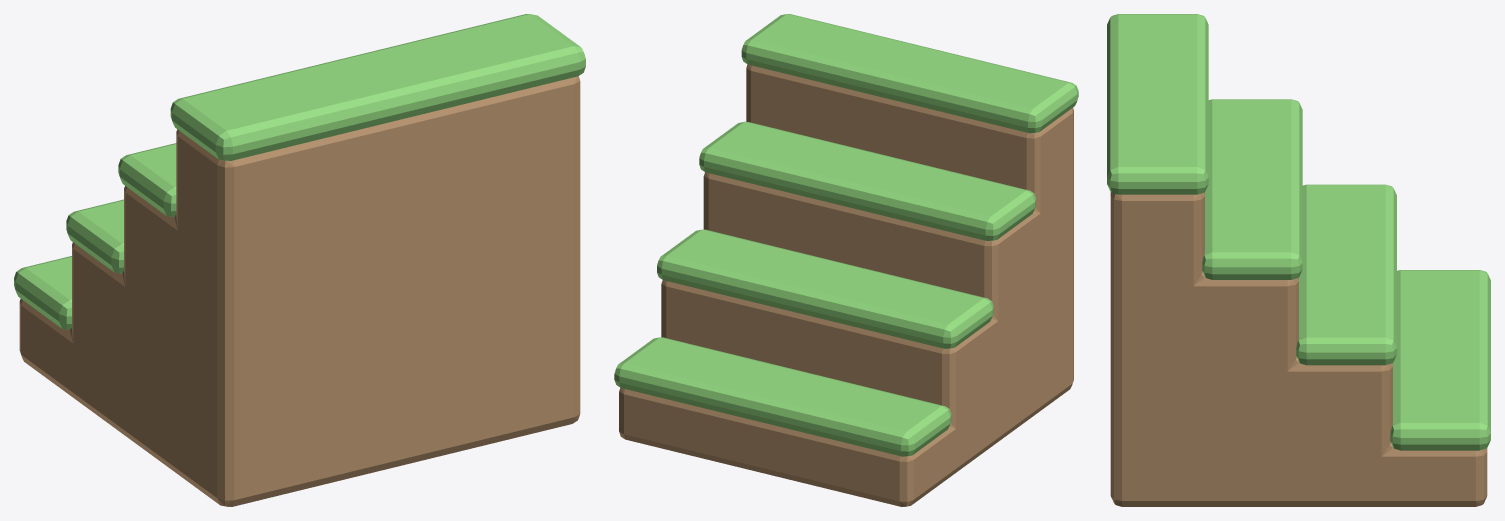
File: stairs.glb
3 renders of one model, left to right at view 1: azimuth 30°, elevation 25°; view 2: azimuth 150°, elevation 25°; view 3: azimuth 270°, elevation 25°, orthographic. The views are drawn at different scales.
Visible parts, largest first — view 1: Stairs; view 2: Stairs; view 3: Stairs.
Boxes of the visible parts, <box> form: Stairs: <box>14,14,585,506</box>; Stairs: <box>614,14,1078,506</box>; Stairs: <box>1107,14,1490,506</box>.
Size of the model in its own units: 1.02 by 1 by 1.02.
